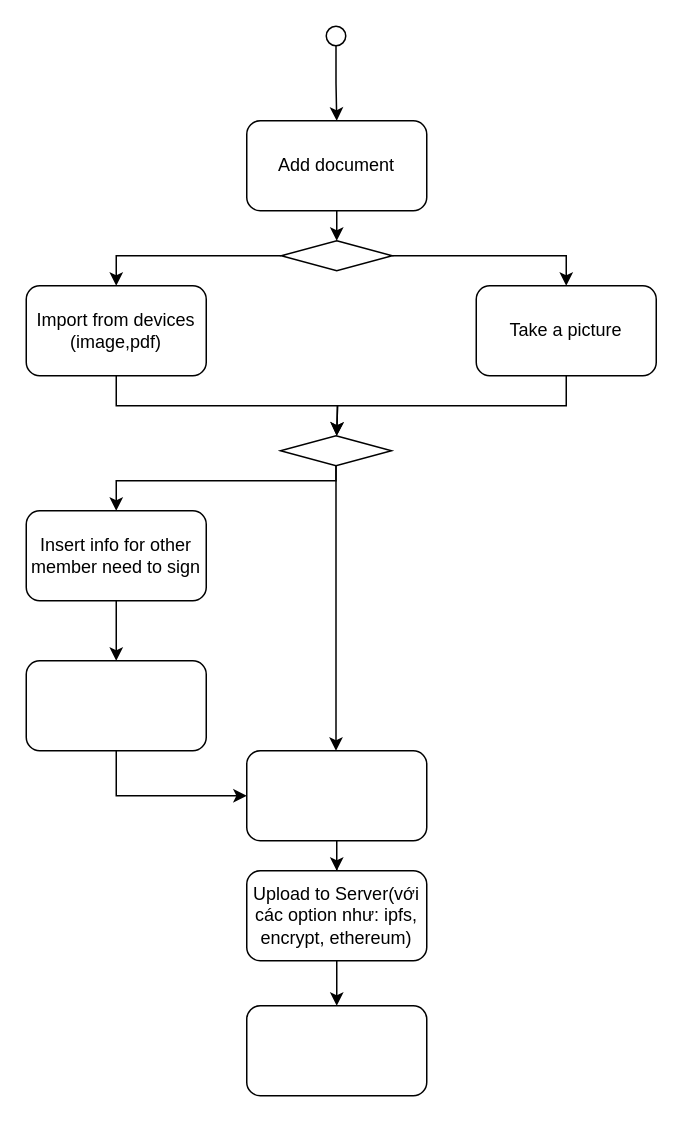
Image size: 683x1122. Some labels were removed from this diagram. The centre of each missing label's shape, as x and y in pixels:
"Select position other member need to put sign" belongs at pixel 115 705.
"Send invited to members" belongs at pixel 336 1050.
"Sign" belongs at pixel 336 795.
